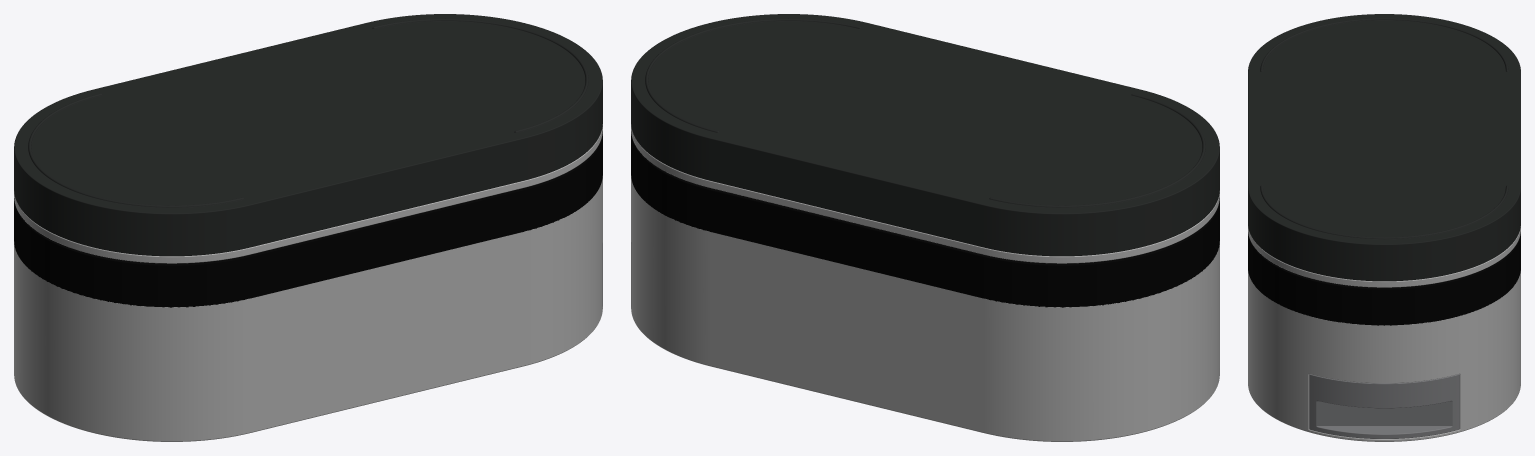
Rendered from testGLB.glb.
3 renders of one model, left to right at view 1: azimuth 30°, elevation 25°; view 2: azimuth 150°, elevation 25°; view 3: azimuth 270°, elevation 25°, orthographic. The views are drawn at different scales.
Visible parts, largest first — view 1: 상단(E342CE7E-2004-4179-BF95-1A110197DD9C), 하단(C14EAAB0-D778-4262-86A2-8E5B5917F742), 후면부(24F9F0A5-C5AC-4B56-BDDC-00D10E1FE908), 전면부(0C149688-19DF-4CAA-B811-F7A678860EED); view 2: 상단(E342CE7E-2004-4179-BF95-1A110197DD9C), 하단(C14EAAB0-D778-4262-86A2-8E5B5917F742), 후면부(24F9F0A5-C5AC-4B56-BDDC-00D10E1FE908); view 3: 상단(E342CE7E-2004-4179-BF95-1A110197DD9C), 하단(C14EAAB0-D778-4262-86A2-8E5B5917F742), 후면부(24F9F0A5-C5AC-4B56-BDDC-00D10E1FE908), 기름받이(7309B019-E9D5-482F-965D-E194CA533D43).
Part boxes in pixels (left/top/right/bottom): 상단(E342CE7E-2004-4179-BF95-1A110197DD9C): left=14, top=14, right=602, bottom=256; 하단(C14EAAB0-D778-4262-86A2-8E5B5917F742): left=14, top=124, right=602, bottom=441; 후면부(24F9F0A5-C5AC-4B56-BDDC-00D10E1FE908): left=14, top=131, right=602, bottom=307; 전면부(0C149688-19DF-4CAA-B811-F7A678860EED): left=249, top=188, right=523, bottom=298; 상단(E342CE7E-2004-4179-BF95-1A110197DD9C): left=631, top=14, right=1219, bottom=256; 하단(C14EAAB0-D778-4262-86A2-8E5B5917F742): left=631, top=124, right=1219, bottom=441; 후면부(24F9F0A5-C5AC-4B56-BDDC-00D10E1FE908): left=631, top=131, right=1219, bottom=307; 상단(E342CE7E-2004-4179-BF95-1A110197DD9C): left=1248, top=14, right=1520, bottom=281; 하단(C14EAAB0-D778-4262-86A2-8E5B5917F742): left=1248, top=226, right=1520, bottom=441; 후면부(24F9F0A5-C5AC-4B56-BDDC-00D10E1FE908): left=1248, top=232, right=1520, bottom=325; 기름받이(7309B019-E9D5-482F-965D-E194CA533D43): left=1309, top=374, right=1459, bottom=438.
Size of what is drawn, in the model's own units: 0.0468 by 0.02 by 0.0234.
Materials: 13 (3 with a texture image).
